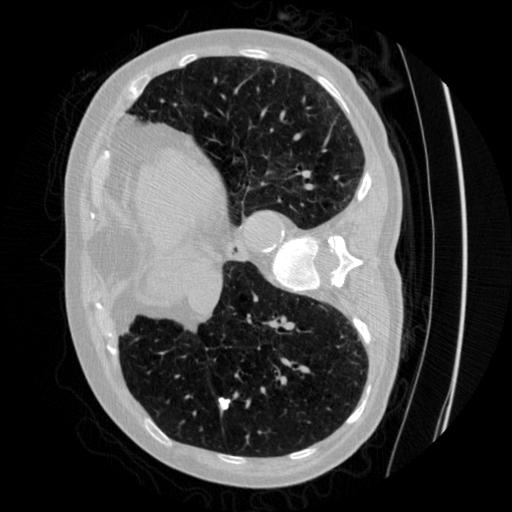nodule: (216, 396, 233, 413)
